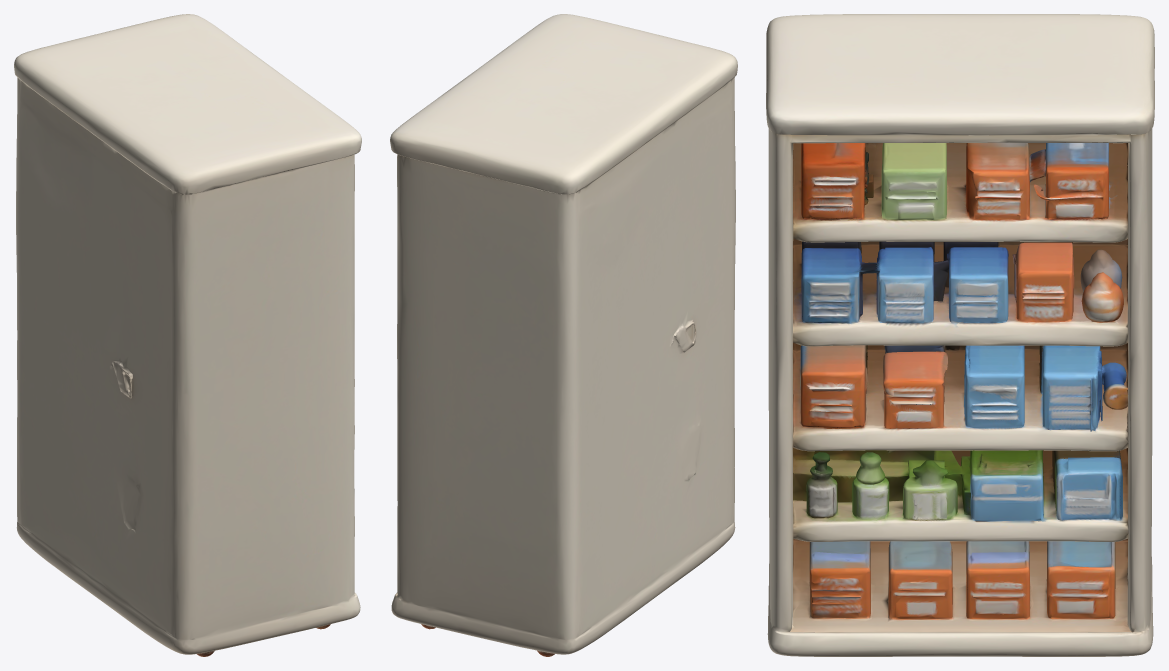
File: shelf.glb
3 views of the same model, side by side, from view 1: azimuth 30°, elevation 25°; view 2: azimuth 150°, elevation 25°; view 3: azimuth 270°, elevation 25° (orthographic). The views are drawn at different scales.
Parts seen in each view (by area): view 1: tripo_node_9f030771-89a8-4ade-be34-8e98182359f1; view 2: tripo_node_9f030771-89a8-4ade-be34-8e98182359f1; view 3: tripo_node_9f030771-89a8-4ade-be34-8e98182359f1.
Part boxes in pixels (left/top/right/bottom): tripo_node_9f030771-89a8-4ade-be34-8e98182359f1: left=14, top=14, right=361, bottom=656; tripo_node_9f030771-89a8-4ade-be34-8e98182359f1: left=390, top=14, right=737, bottom=656; tripo_node_9f030771-89a8-4ade-be34-8e98182359f1: left=766, top=14, right=1154, bottom=656.
Size of the model in its own units: 0.4032 by 0.9991 by 0.6325.
1 material, 1 textured.
